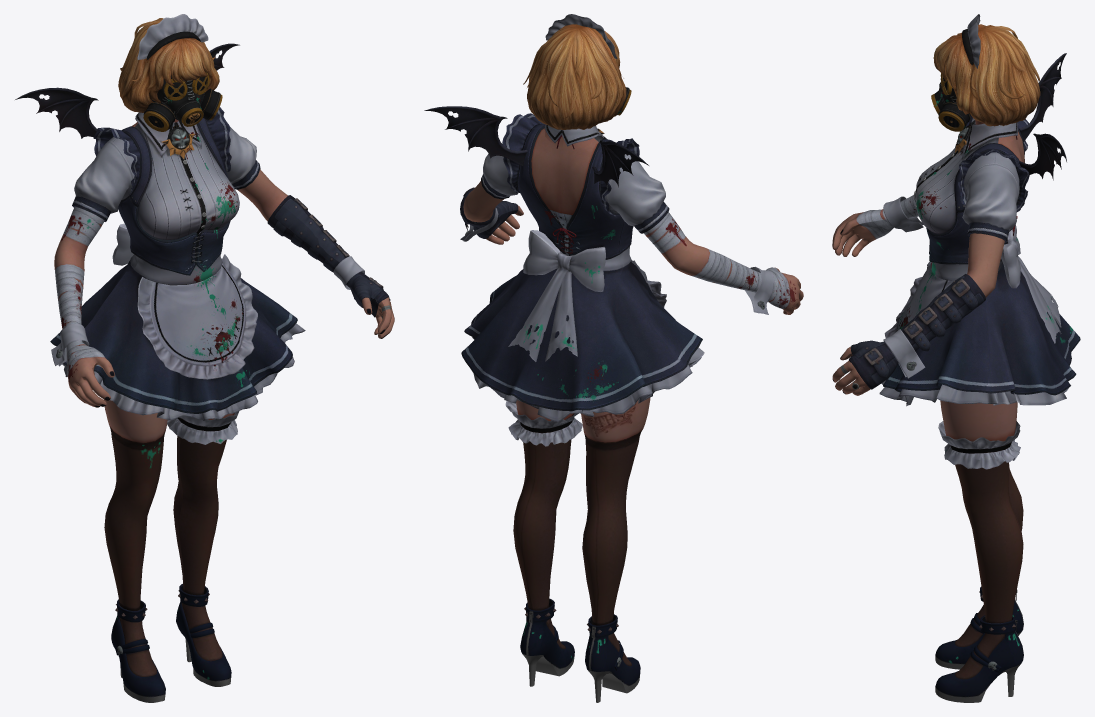
The picture shows the model from 3 angles, left to right: view 1: azimuth 30°, elevation 25°; view 2: azimuth 150°, elevation 25°; view 3: azimuth 270°, elevation 25°; orthographic projection.
Visible parts, largest first — view 1: VeronicaPagan; view 2: VeronicaPagan; view 3: VeronicaPagan.
Part boxes in pixels (<box>): VeronicaPagan: <box>15,14,394,702</box>; VeronicaPagan: <box>424,14,803,702</box>; VeronicaPagan: <box>832,14,1080,702</box>.
Bounding box in the file's own units: 3.69 × 7.35 × 2.5.
1 material, 1 textured.
